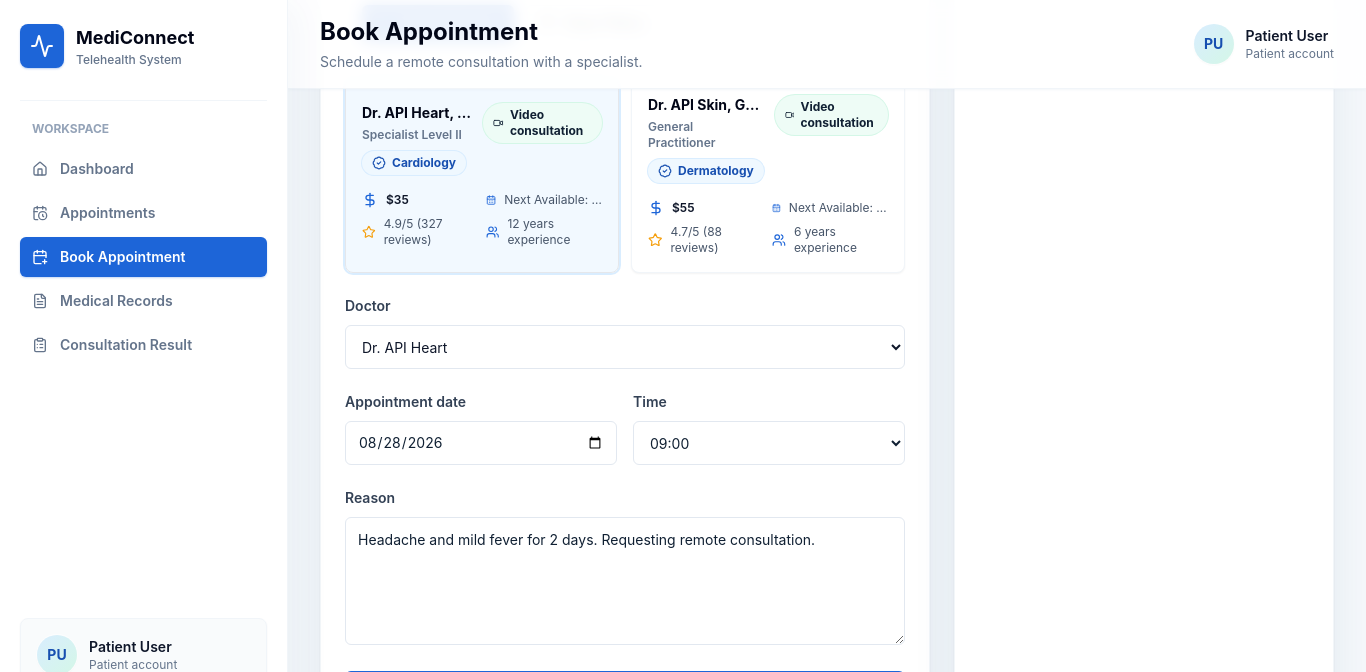
Test: Telehealth frontend routes › shows blocked booking slots after approved doctor leave removes availability
The width and height of the screenshot is (1366, 672).
(page scrolled)
In the date field labelled "Appointment date": (481, 443) [345,421,617,465], type "2026-05-19"
(page scrolled)
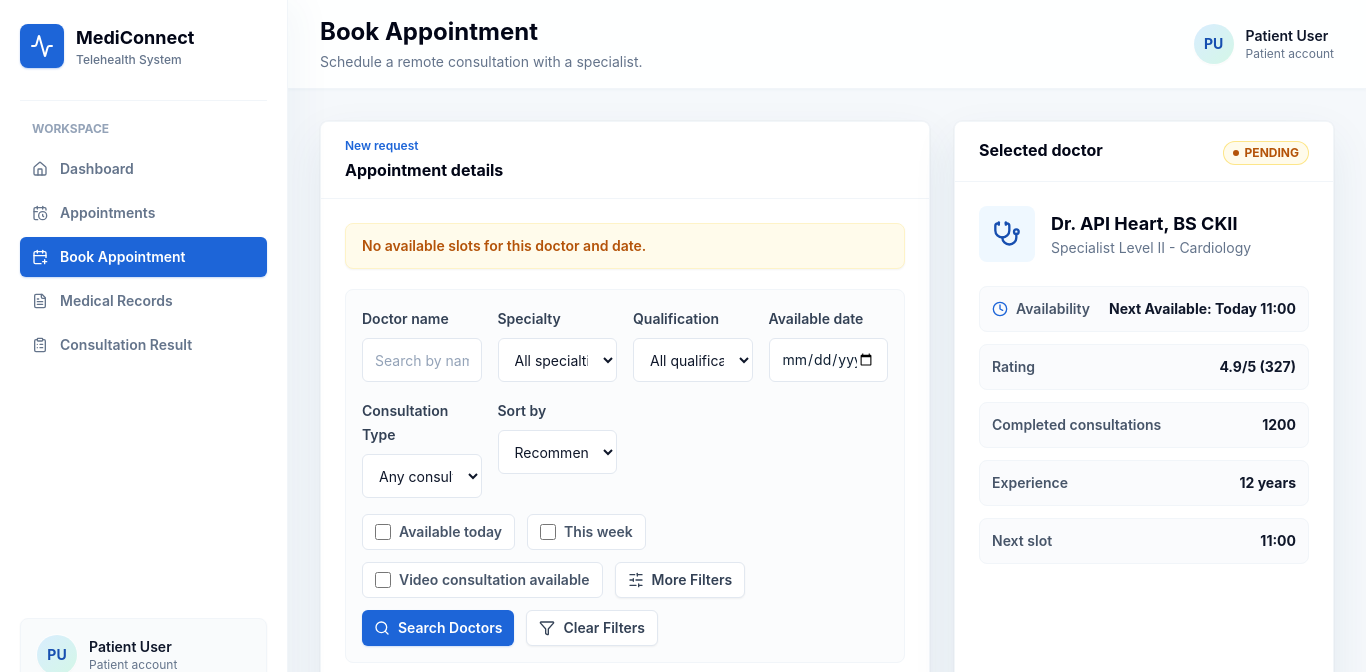
Check: the text "No available slots for this doctor and date." is shown, box [345,223,905,269]
